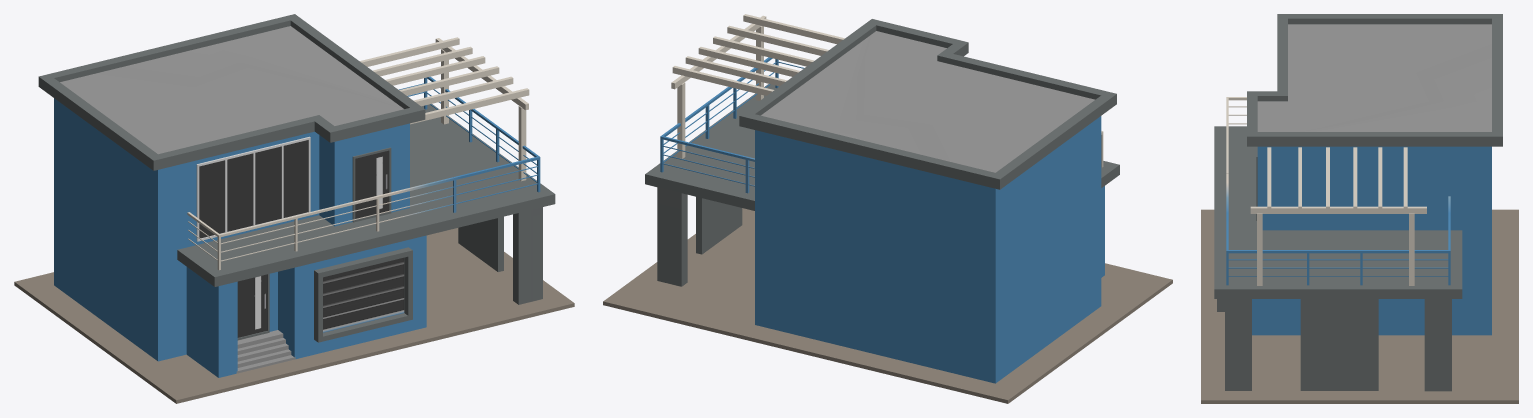
Rendered from Building_House_01_color01.fbx.
The picture shows the model from 3 angles, left to right: view 1: azimuth 30°, elevation 25°; view 2: azimuth 150°, elevation 25°; view 3: azimuth 270°, elevation 25°; orthographic projection. The views are drawn at different scales.
Visible parts, largest first — view 1: Building_House_01_color01; view 2: Building_House_01_color01; view 3: Building_House_01_color01.
Part boxes in pixels (x1=…): Building_House_01_color01: x1=14, y1=14, x2=574, y2=403; Building_House_01_color01: x1=603, y1=14, x2=1172, y2=403; Building_House_01_color01: x1=1201, y1=14, x2=1518, y2=403.
Size of the model in its own units: 1789 by 905 by 1260.
